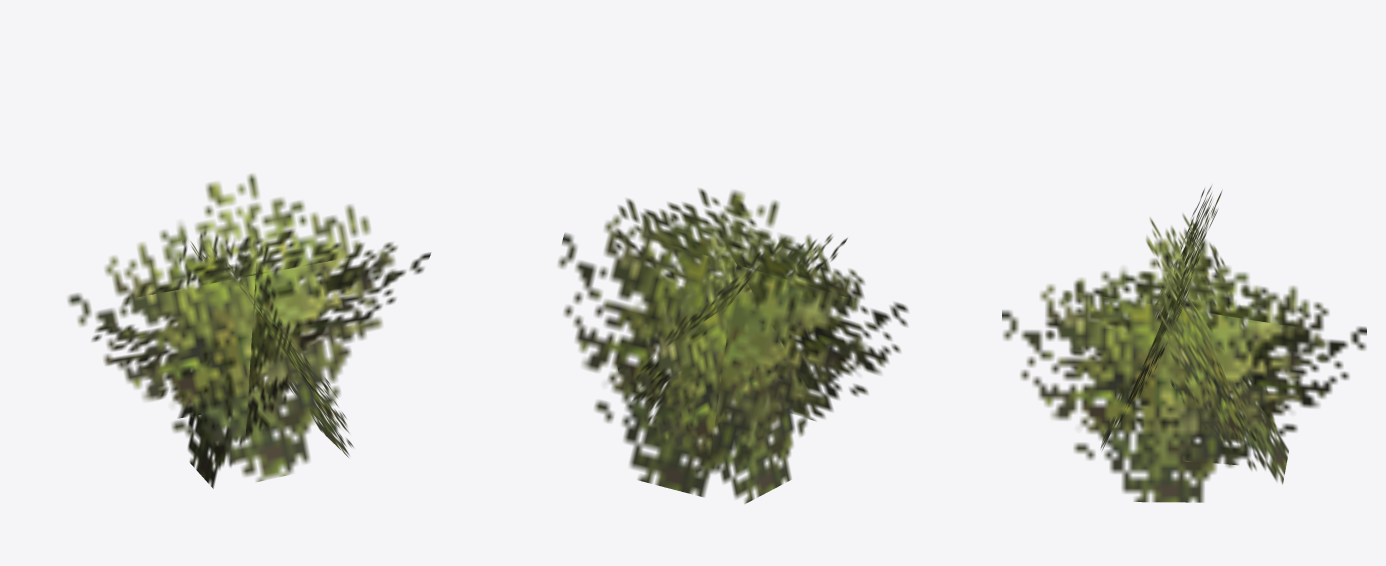
File: plant-10.glb
3 renders of one model, left to right at view 1: azimuth 30°, elevation 25°; view 2: azimuth 150°, elevation 25°; view 3: azimuth 270°, elevation 25°, orthographic. The views are drawn at different scales.
Visible parts, largest first — view 1: bush_sm_1; view 2: bush_sm_1; view 3: bush_sm_1.
Boxes of the visible parts, bbox=[...] form: bush_sm_1: bbox=[67, 174, 430, 488]; bush_sm_1: bbox=[558, 188, 908, 503]; bush_sm_1: bbox=[1002, 185, 1366, 502].
Size of the model in its own units: 2.82 by 2.97 by 2.55.
1 material, 1 textured.
